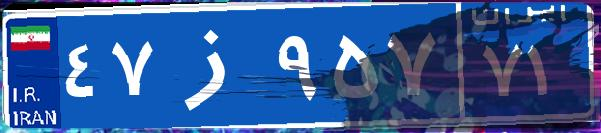1: (525, 38, 570, 115)
4: (57, 26, 110, 107)
5: (330, 28, 385, 110)
7: (385, 28, 445, 110), (475, 38, 525, 113), (110, 28, 158, 105)
9: (273, 28, 330, 110)
ز: (158, 15, 273, 115)
